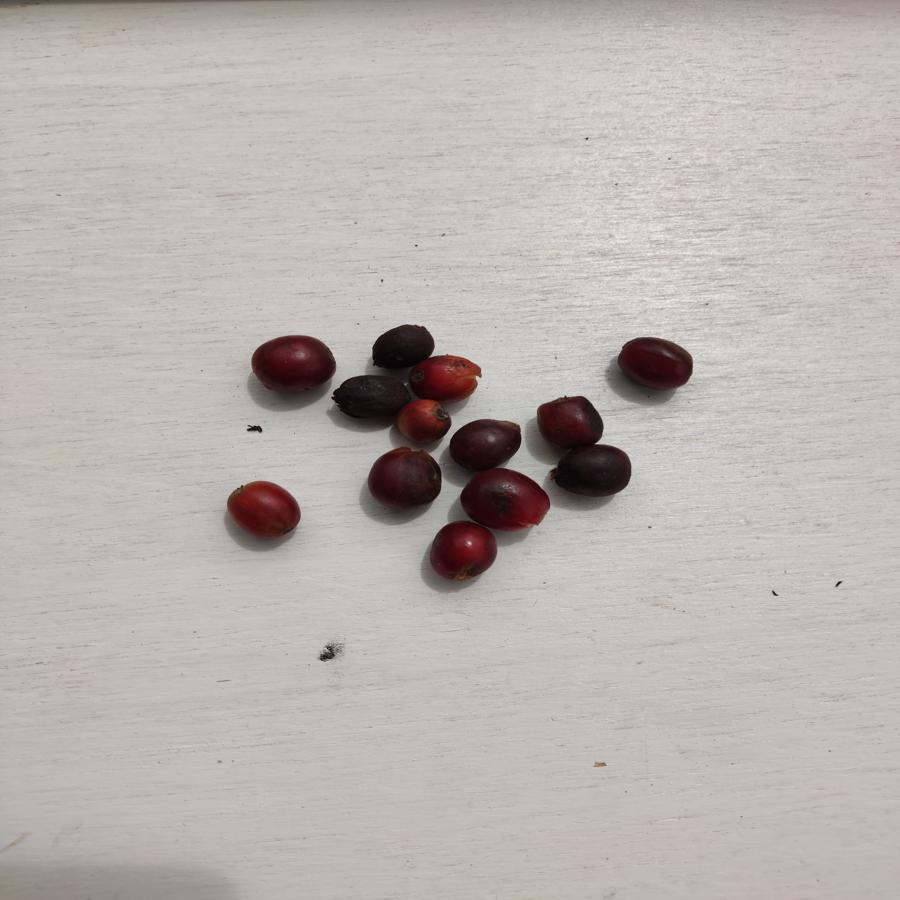Maduro: (223, 479, 305, 543)
Sobremaduro: (249, 332, 339, 395), (460, 470, 554, 528), (365, 449, 444, 513), (429, 514, 501, 583), (615, 332, 695, 394), (548, 445, 642, 495), (535, 392, 605, 450), (331, 374, 412, 423), (451, 415, 524, 467), (369, 321, 438, 366), (411, 357, 485, 398), (399, 398, 453, 447)
